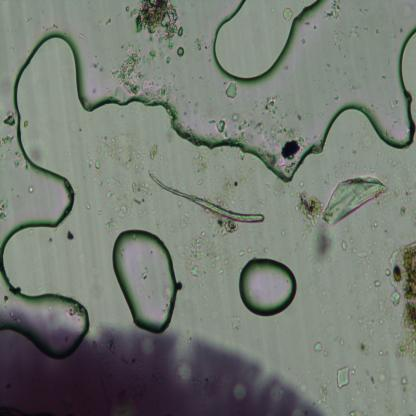Air bubble: (84, 13, 416, 174), (211, 0, 323, 83), (112, 228, 177, 334), (240, 256, 297, 316)
Background material: (387, 239, 416, 364), (109, 44, 164, 101), (324, 177, 389, 225), (194, 149, 256, 195), (124, 0, 184, 43), (185, 227, 229, 278), (103, 132, 162, 170), (350, 368, 396, 414), (261, 121, 302, 165), (207, 114, 257, 147), (312, 217, 332, 273), (296, 191, 326, 227), (257, 97, 282, 121), (317, 374, 331, 408), (336, 363, 351, 393), (214, 218, 238, 234), (233, 242, 254, 259), (356, 317, 374, 336), (84, 157, 102, 175), (325, 0, 342, 19), (356, 250, 374, 266), (113, 201, 128, 219), (2, 109, 16, 128), (225, 80, 238, 99), (0, 132, 16, 147), (0, 195, 8, 222), (398, 200, 409, 219), (161, 51, 174, 67), (193, 36, 204, 54), (105, 221, 119, 235), (282, 7, 294, 21), (14, 150, 22, 171), (401, 373, 409, 394), (313, 339, 324, 354), (104, 188, 115, 201), (66, 227, 76, 241), (340, 239, 350, 252), (373, 277, 381, 292), (176, 45, 184, 57), (27, 184, 35, 195), (2, 294, 8, 303)
Microfibre: (148, 170, 264, 224)
Pen: (0, 308, 324, 416), (0, 0, 95, 351)
